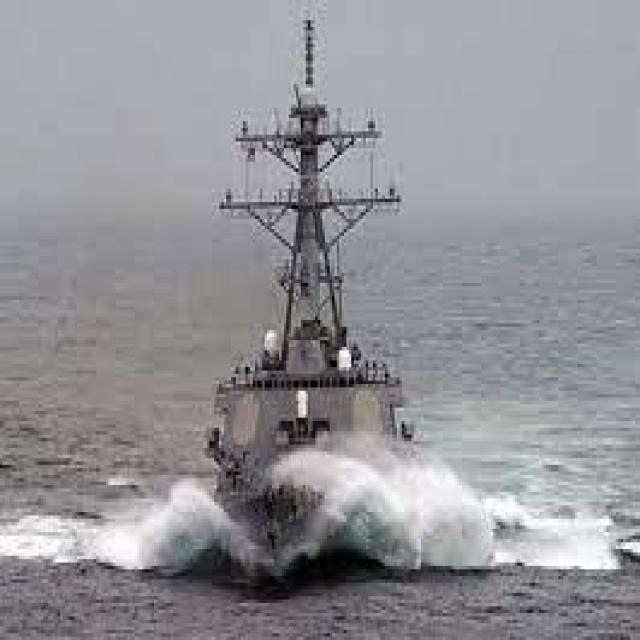navalvessels: (175, 9, 472, 556)
